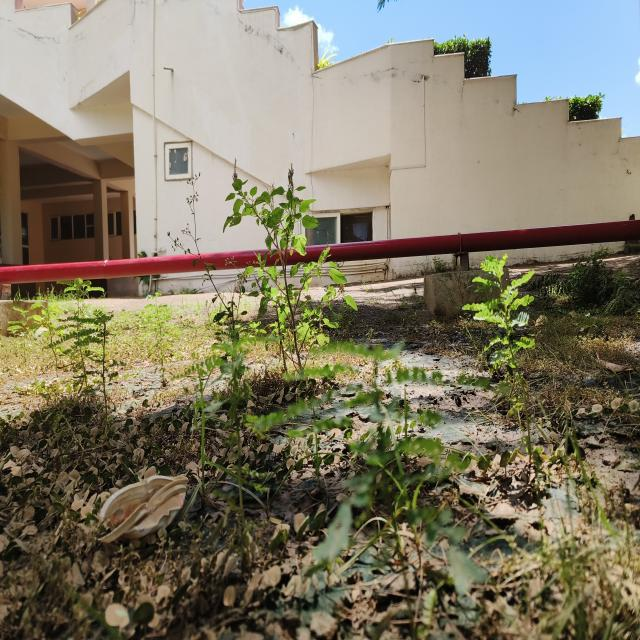weed: (259, 332, 481, 620), (461, 252, 540, 447)
